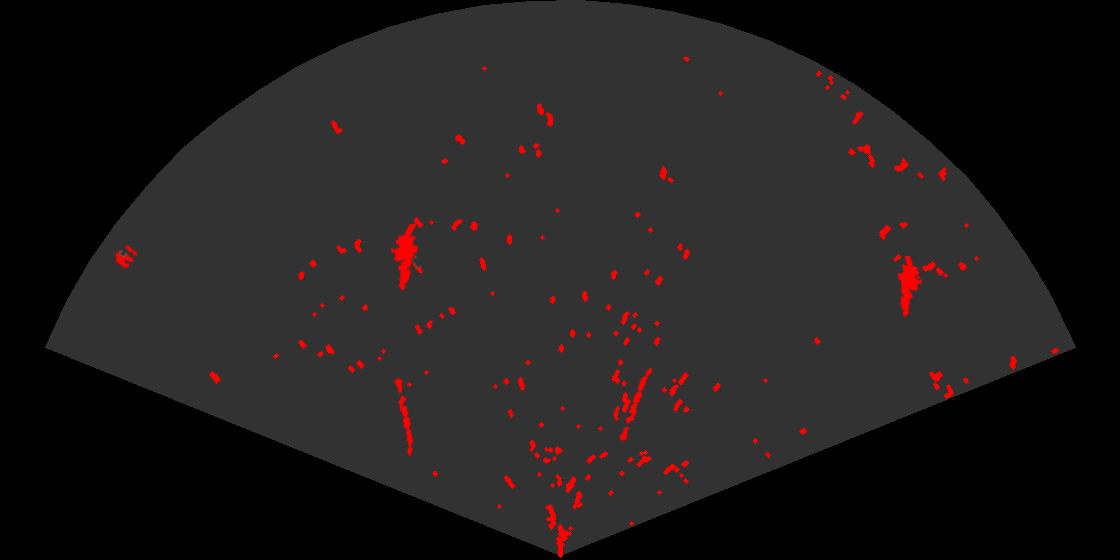AUV: (393, 245, 424, 275)
ball: (114, 243, 139, 270)
chain: (618, 366, 654, 444), (393, 374, 415, 458)
frogman: (389, 224, 420, 292), (896, 256, 924, 318)
